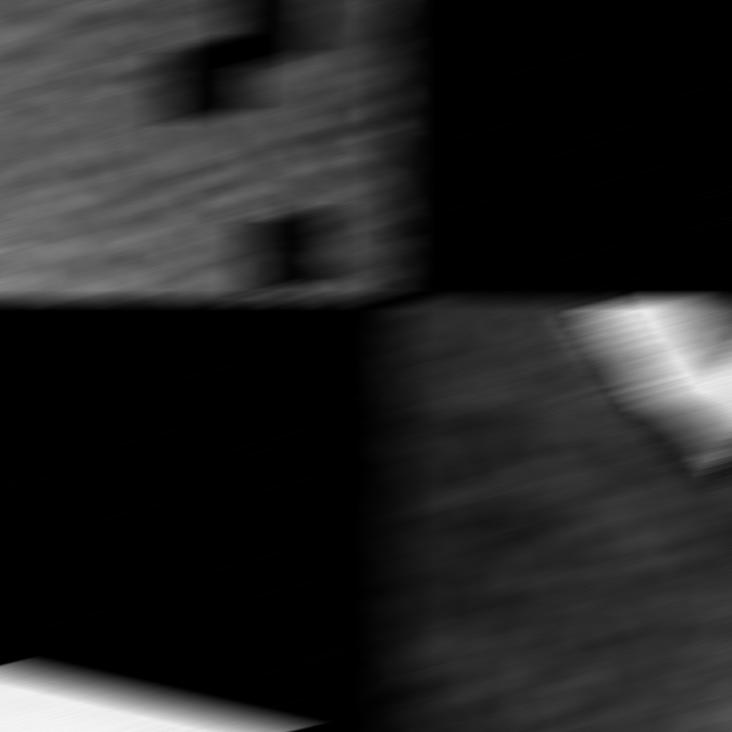AirbagV2: (385, 302, 732, 729), (0, 2, 404, 297), (0, 662, 327, 729)
